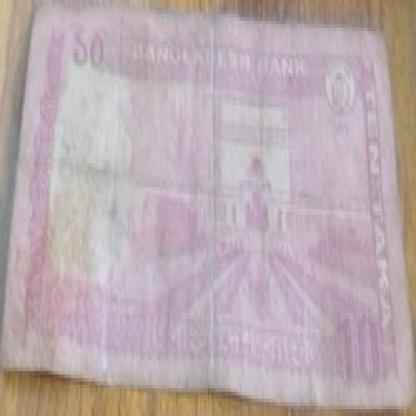Ten Taka: (326, 302, 381, 381), (63, 21, 113, 80)
